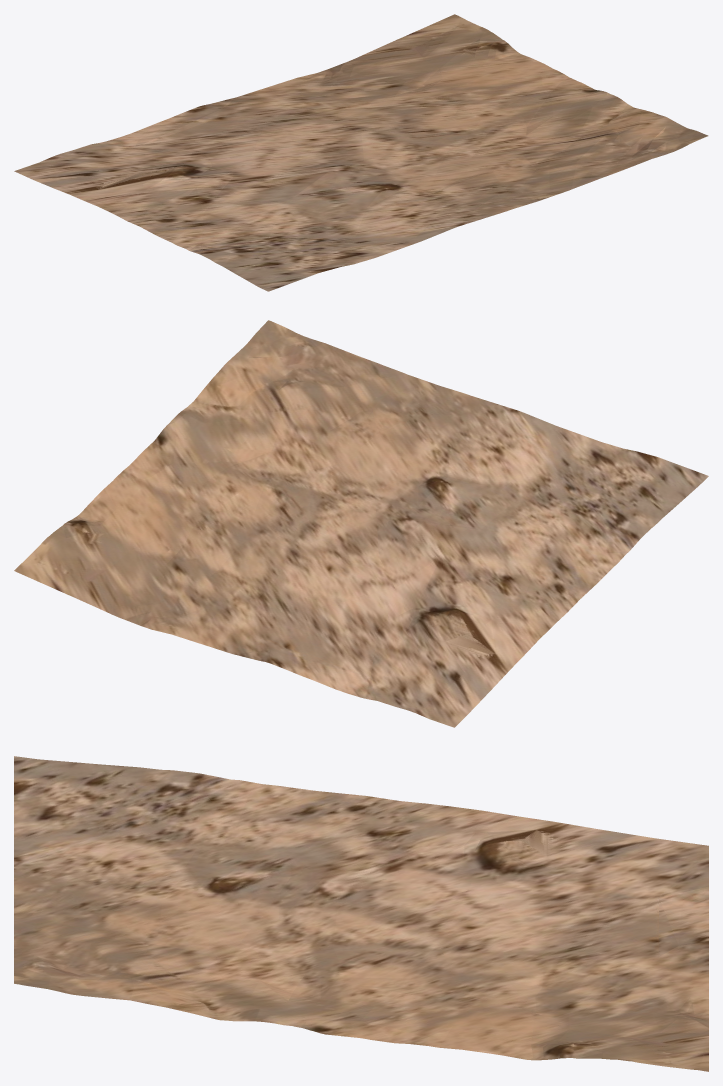
The picture shows the model from 3 angles, top to bottom: view 1: azimuth 30°, elevation 25°; view 2: azimuth 150°, elevation 25°; view 3: azimuth 270°, elevation 25°; orthographic projection. The views are drawn at different scales.
Bounding box in the file's own units: 4.18 × 1.03 × 4.18.
2 materials, 2 textured.
